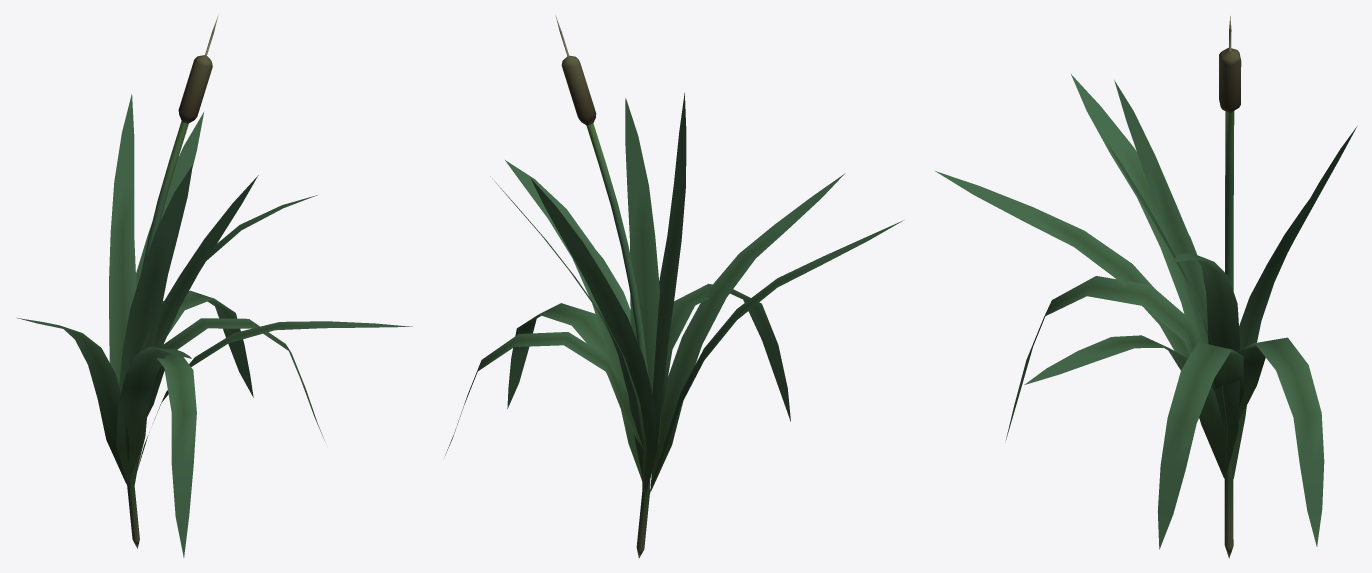
File: plants-grasses-reeds-cattail_v2.glb
3 views of the same model, side by side, from view 1: azimuth 30°, elevation 25°; view 2: azimuth 150°, elevation 25°; view 3: azimuth 270°, elevation 25° (orthographic). The views are drawn at different scales.
Parts seen in each view (by area): view 1: Cattail_v2; view 2: Cattail_v2; view 3: Cattail_v2.
Boxes of the visible parts, x1,y1,x2,y2 form: Cattail_v2: (16,16,412,557); Cattail_v2: (445,15,903,558); Cattail_v2: (935,16,1357,558).
Bounding box in the file's own units: 1.15 × 1.5 × 0.9756.
